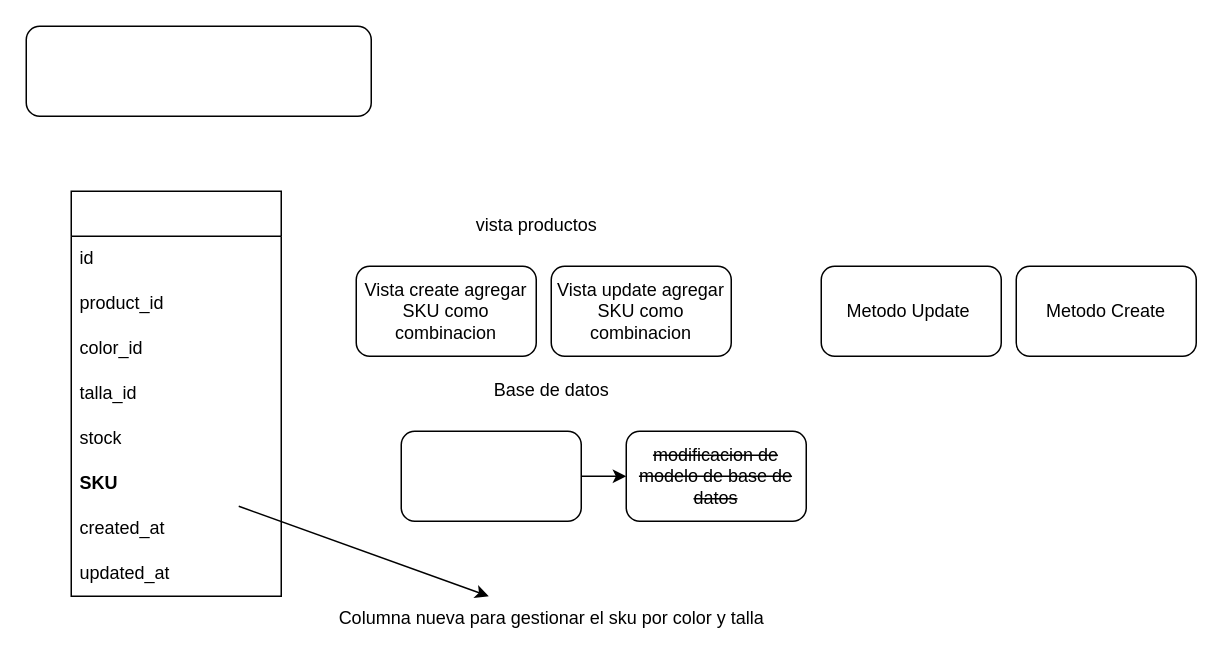
This 1223x668 diagram has some shape labels left out. The shapes that lost their labels are listed below. From the top down, each one's box as (x1, y1, x2, y2) in pixels, then its label:
(25, 25, 371, 116): productos = 1 => combinaciones N (1 producto puede tener N combinaciones)
(70, 190, 281, 596): combinaciones
(400, 430, 581, 521): Migracion para modificar la base de datos
